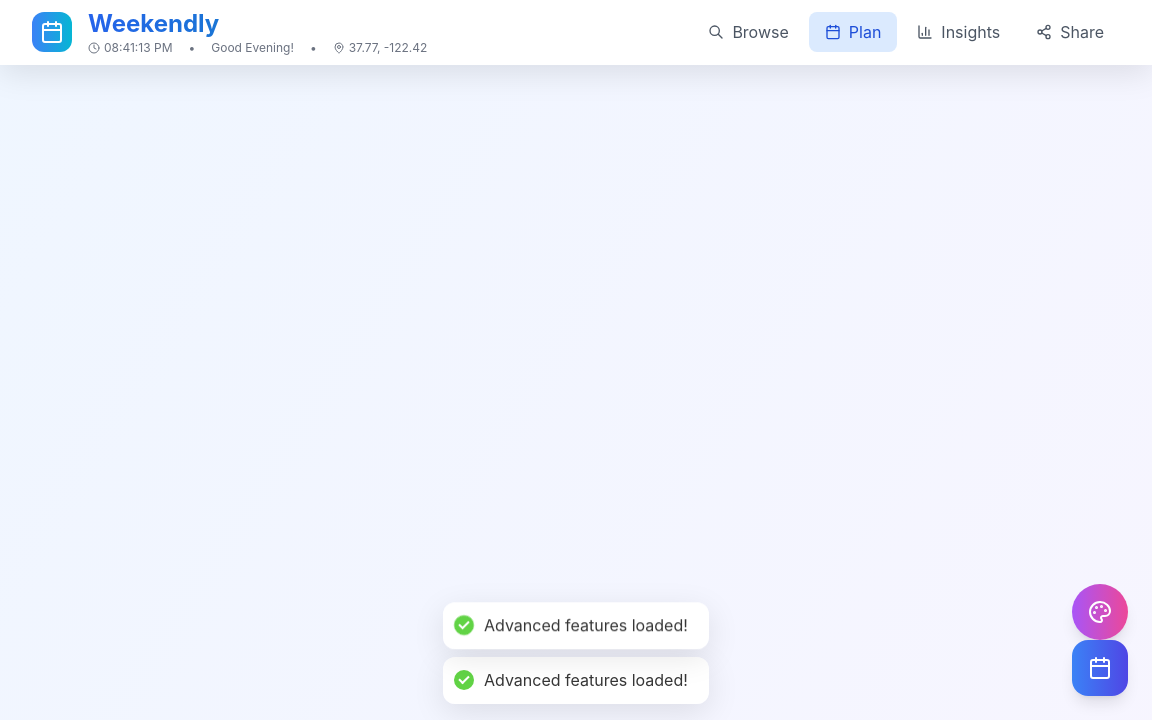
Scenario: Weekendly - Core Weekend Planner Tests › can add activities to bucket
Check: the heading "Weekendly" is shown, box [88,8,427,40]
Click the button "Browse". click: (749, 32)
box: [692,12,805,52]
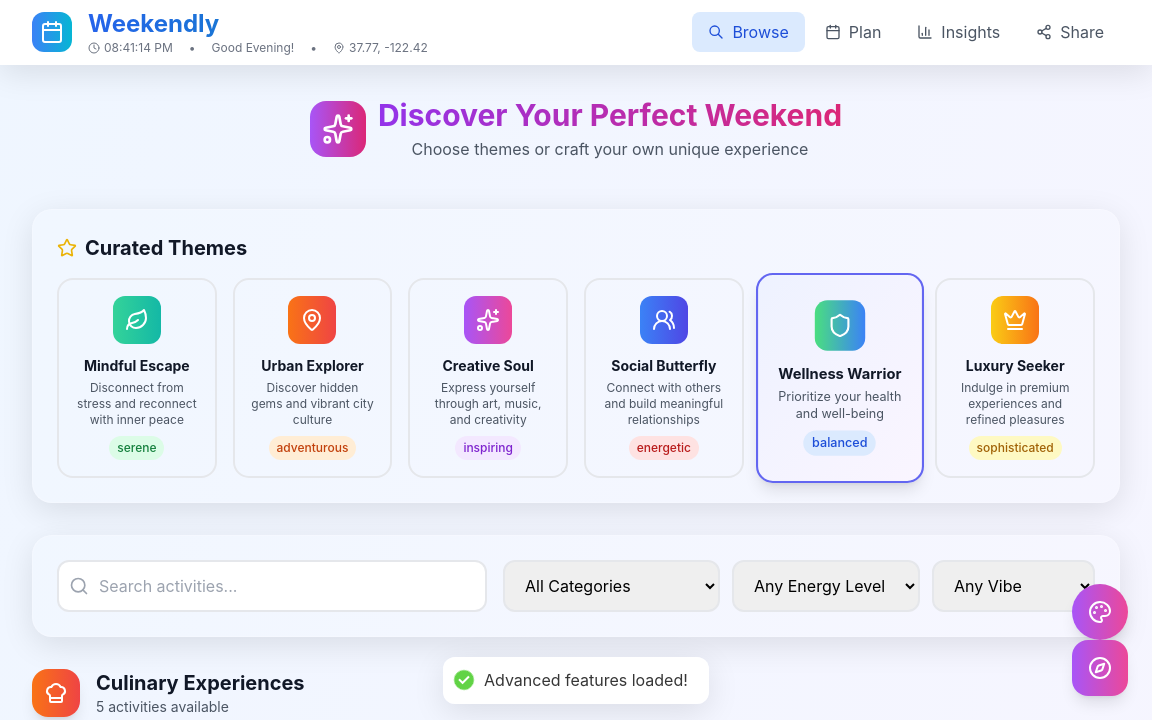
Check: the heading "Discover Your Perfect Weekend" is shown, box [378,97,842,133]
